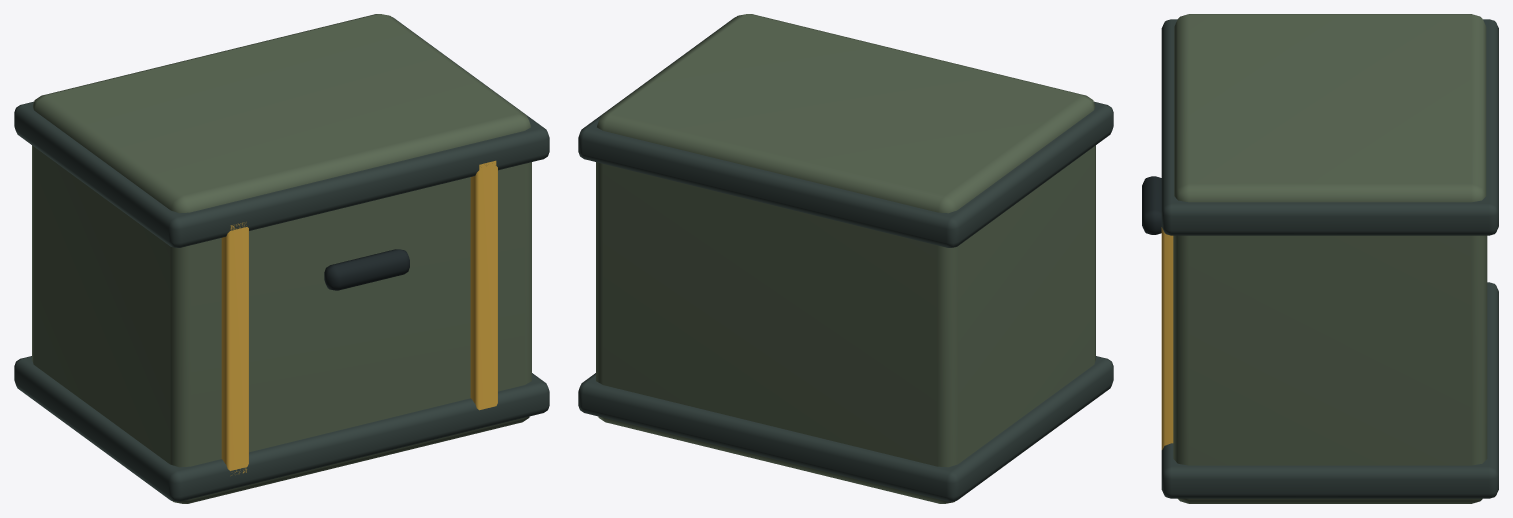
Rendered from SupplyCrate.fbx.
3 views of the same model, side by side, from view 1: azimuth 30°, elevation 25°; view 2: azimuth 150°, elevation 25°; view 3: azimuth 270°, elevation 25° (orthographic). The views are drawn at different scales.
Parts seen in each view (by area): view 1: SupplyCrateMesh; view 2: SupplyCrateMesh; view 3: SupplyCrateMesh.
Part boxes in pixels (left/top/right/bottom): SupplyCrateMesh: left=14, top=14, right=549, bottom=503; SupplyCrateMesh: left=578, top=14, right=1113, bottom=503; SupplyCrateMesh: left=1142, top=14, right=1498, bottom=503.
Size of the model in its own units: 116 by 90 by 91.
